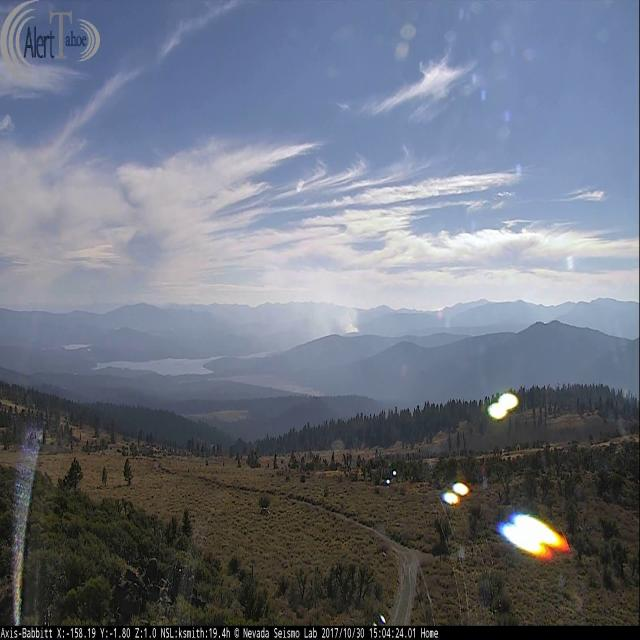smoke: (192, 270, 360, 346)
